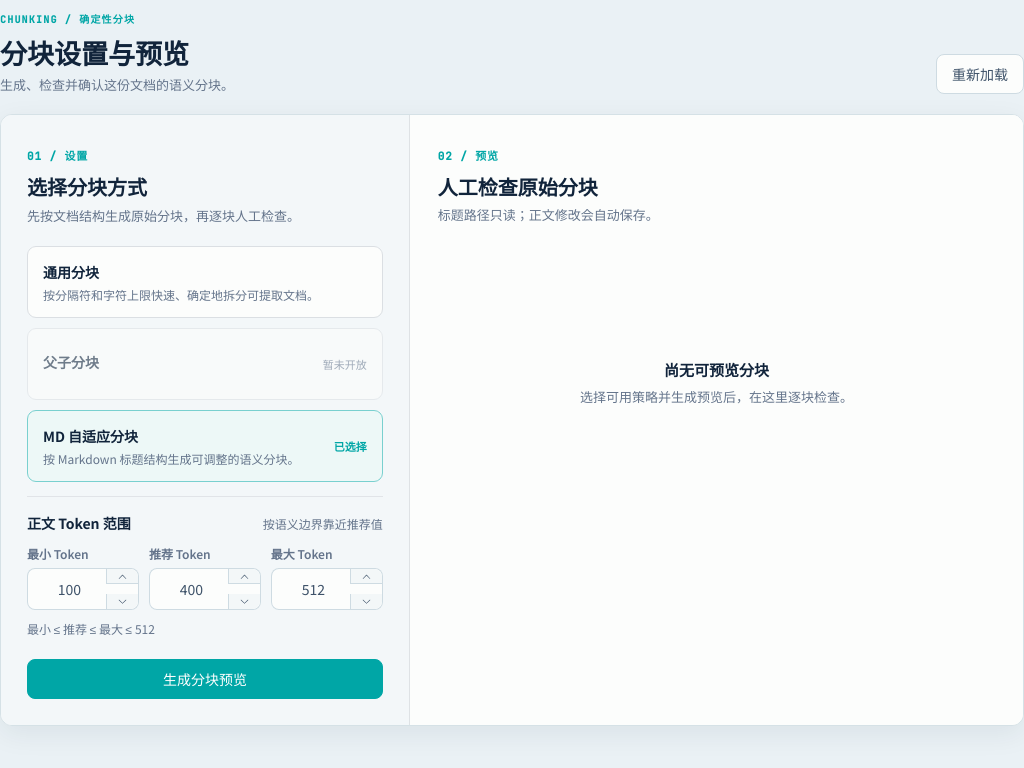
Test case: ChunkingWorkspace › offers an explicit reload on a preview 409 and preserves config on a 422
This screenshot has width=1024, height=768.
Click the button with test id "create-preview" at (205, 679), box [27,659,383,699]
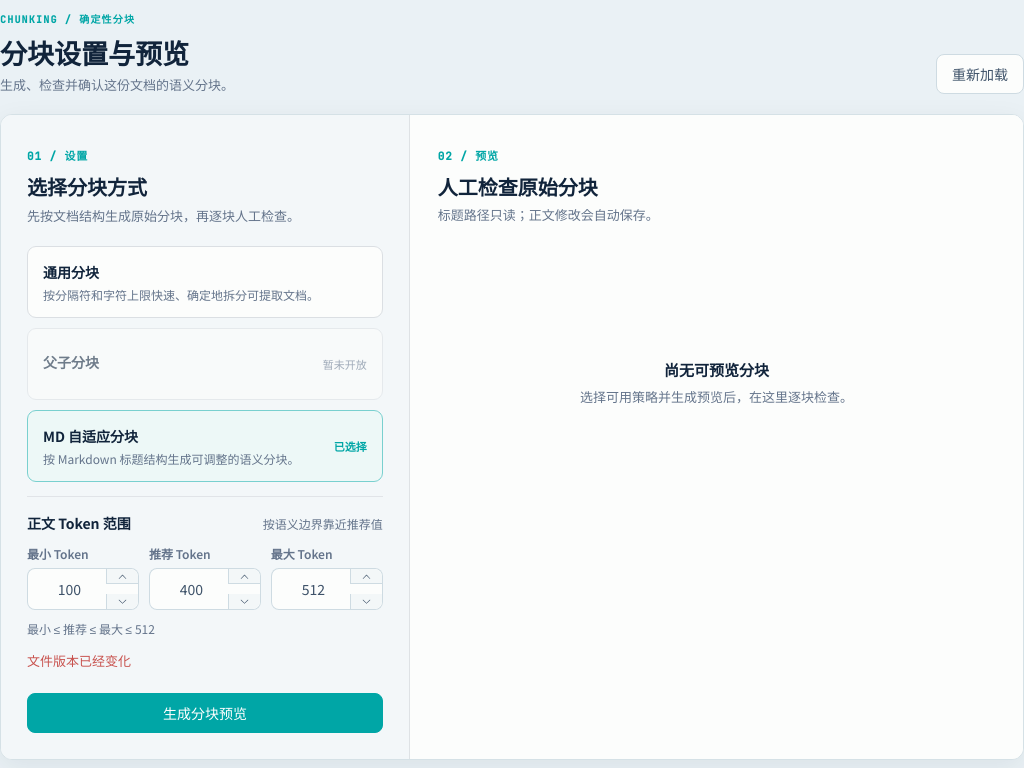
Expected: the text "文件版本已经变化" is shown, [27,651,131,670]
Click the button "重新加载" at (980, 74), box [936,54,1023,94]
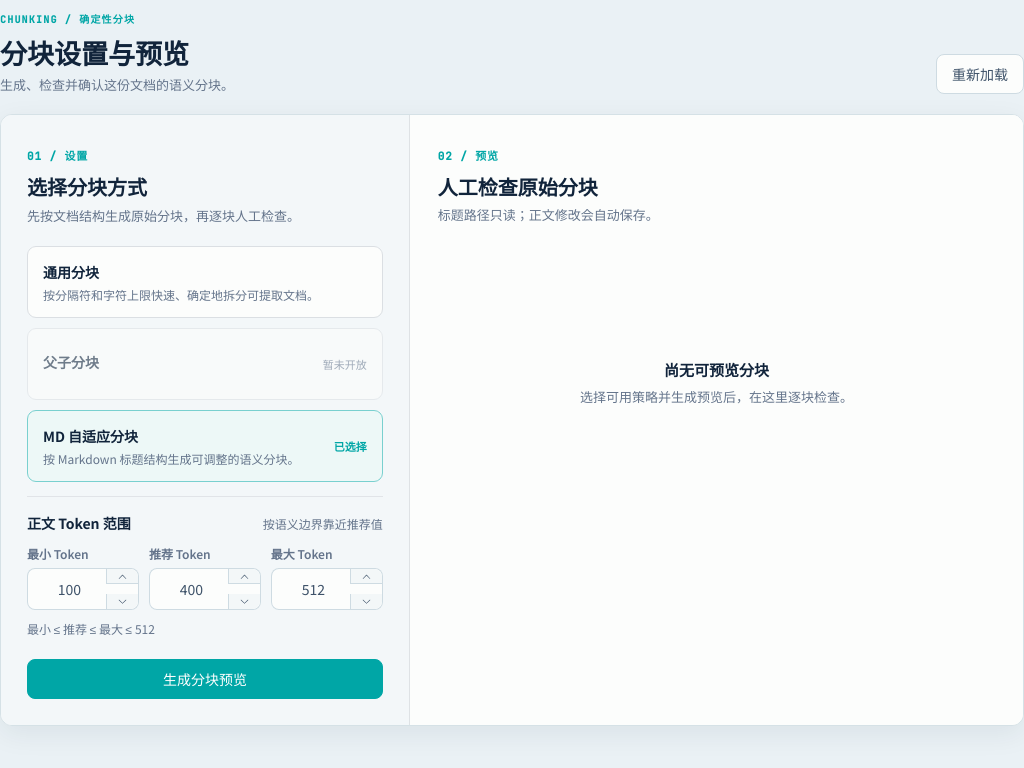
Click the button with test id "create-preview" at (205, 679), box [27,659,383,699]
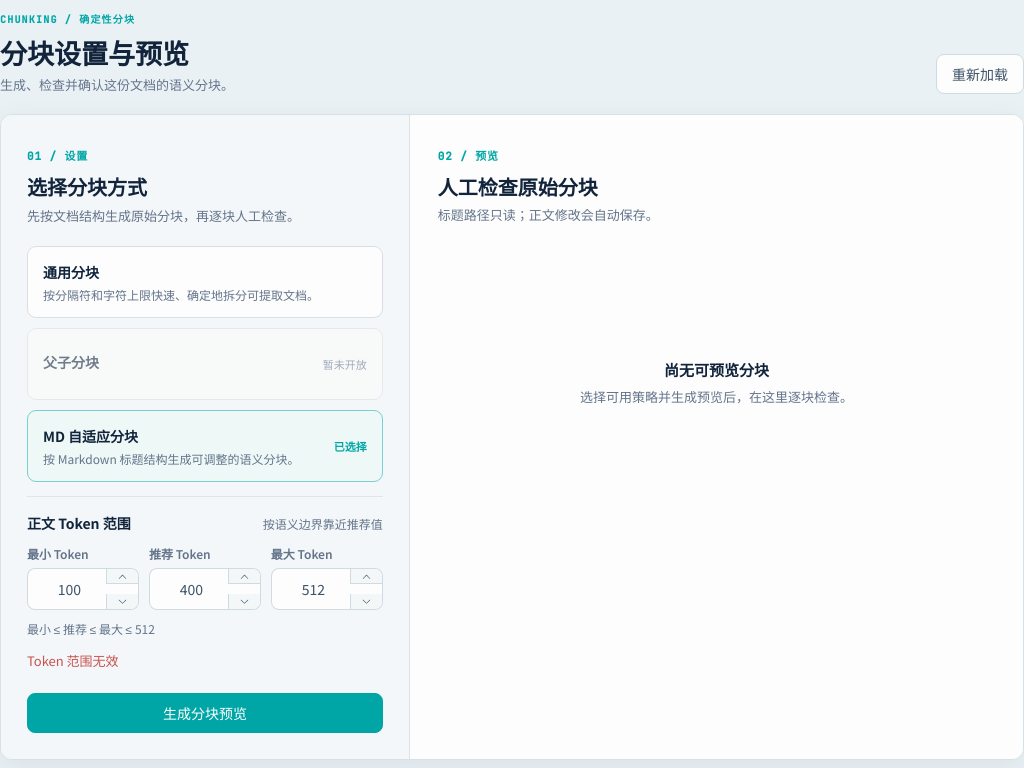
Expected: the number field labelled "推荐 Token" holds "400", [164,569,219,609]
Expected: the text "Token 范围无效" is shown, [27,651,119,670]
